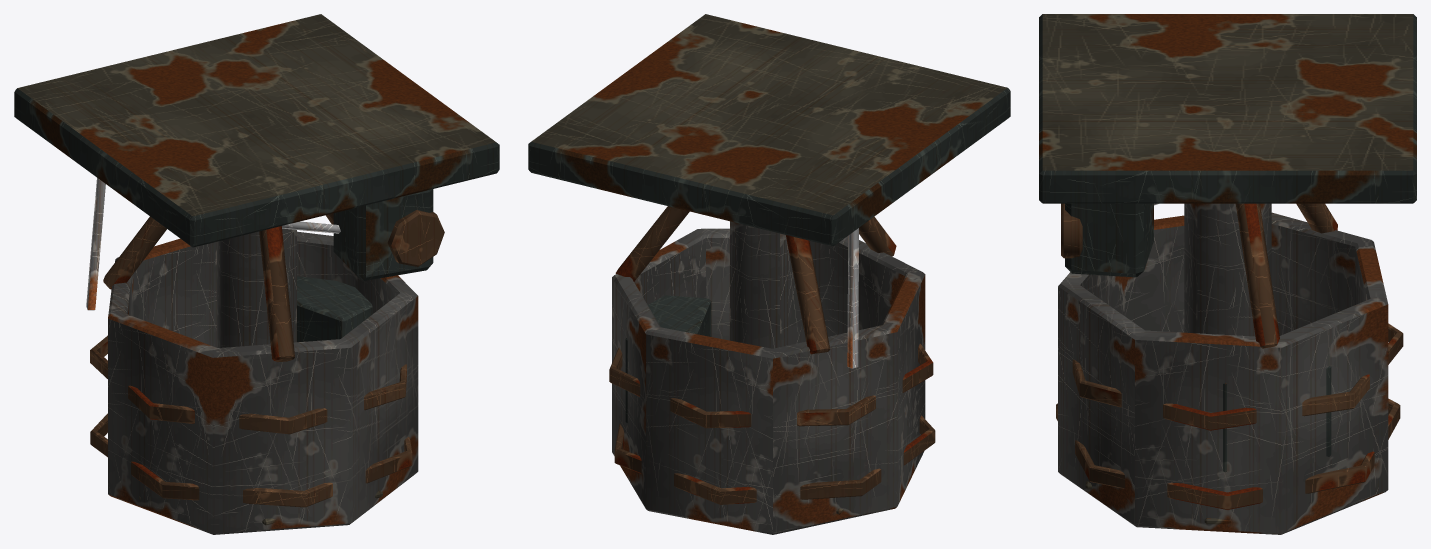
Rendered from R4M_HoverEngine_LOD1.glb.
3 views of the same model, side by side, from view 1: azimuth 30°, elevation 25°; view 2: azimuth 150°, elevation 25°; view 3: azimuth 270°, elevation 25° (orthographic). The views are drawn at different scales.
Parts seen in each view (by area): view 1: R4M_HoverEngine_LOD1; view 2: R4M_HoverEngine_LOD1; view 3: R4M_HoverEngine_LOD1.
Boxes of the visible parts, x1,y1,x2,y2 form: R4M_HoverEngine_LOD1: [14, 14, 499, 534]; R4M_HoverEngine_LOD1: [528, 14, 1010, 534]; R4M_HoverEngine_LOD1: [1039, 14, 1416, 534].
Size of the model in its own units: 0.52 by 0.57 by 0.52.
Materials: 5 (5 with a texture image).
